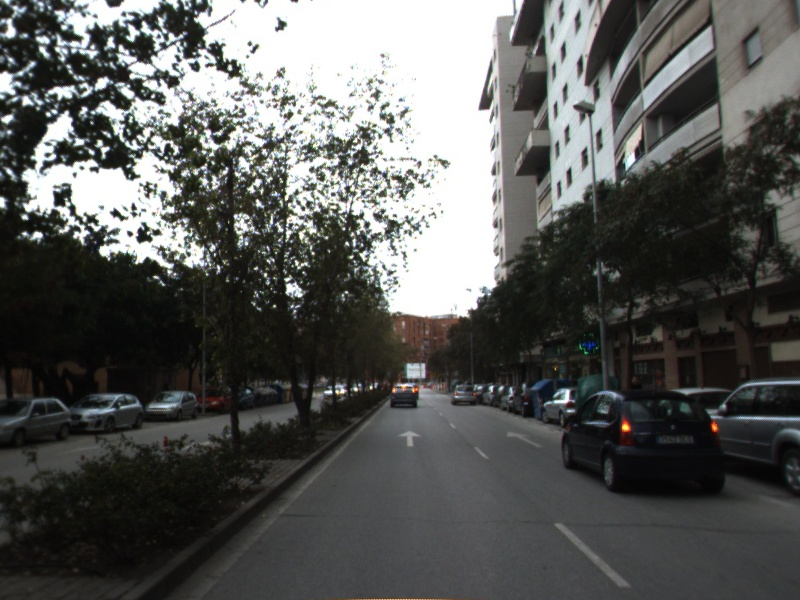STRAIGHT: (505, 429, 545, 449), (395, 428, 425, 448)
